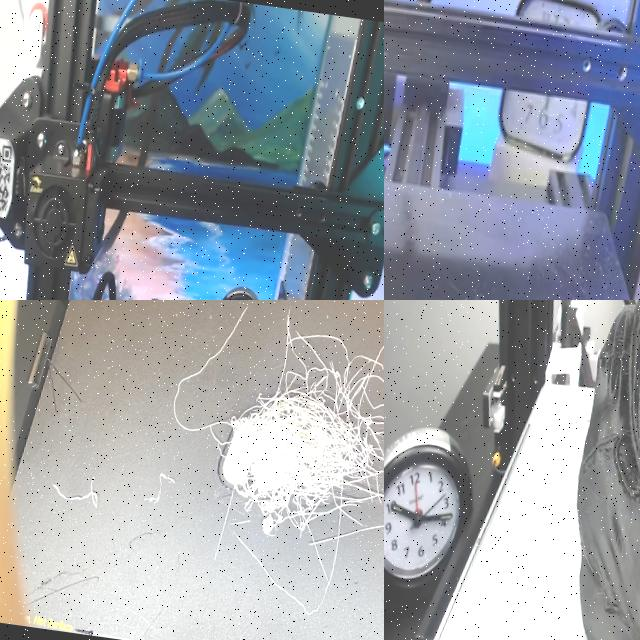spaghetti: (158, 300, 384, 542), (50, 472, 104, 516), (142, 468, 181, 520)
